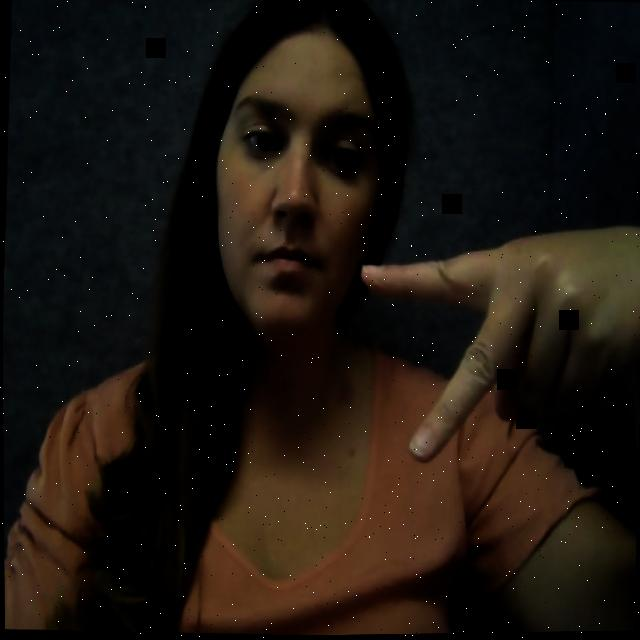Scissors: (316, 164, 640, 511)
